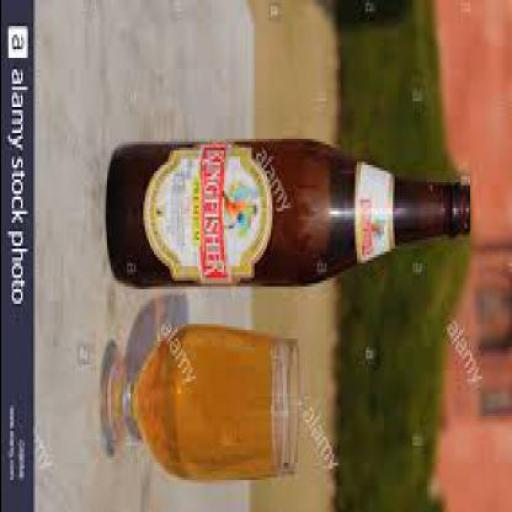glass: (108, 142, 470, 286), (103, 320, 298, 480)
